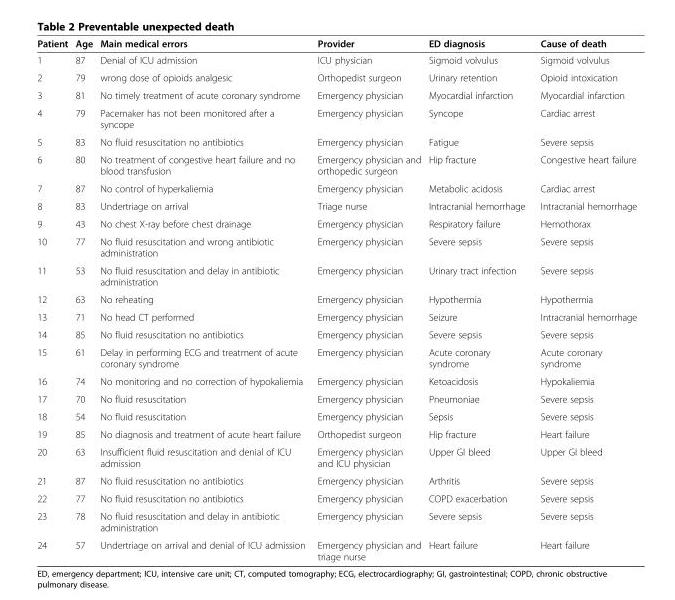table: (36, 37, 636, 561)
table column: (95, 37, 310, 561), (310, 37, 424, 561), (424, 37, 532, 561), (532, 37, 636, 561), (36, 37, 71, 561), (71, 37, 95, 561)
table column header: (36, 37, 636, 51)
table row: (36, 103, 636, 132), (36, 150, 636, 179), (36, 232, 636, 261), (36, 261, 636, 290), (36, 343, 636, 372), (36, 442, 636, 471), (36, 506, 636, 535), (36, 535, 636, 561), (36, 68, 636, 86), (36, 132, 636, 150), (36, 196, 636, 214), (36, 214, 636, 232), (36, 307, 636, 325), (36, 325, 636, 343), (36, 389, 636, 407), (36, 407, 636, 425), (36, 471, 636, 489), (36, 51, 636, 68), (36, 86, 636, 103), (36, 179, 636, 196), (36, 290, 636, 307), (36, 372, 636, 389), (36, 425, 636, 442), (36, 489, 636, 506), (36, 37, 636, 51)
